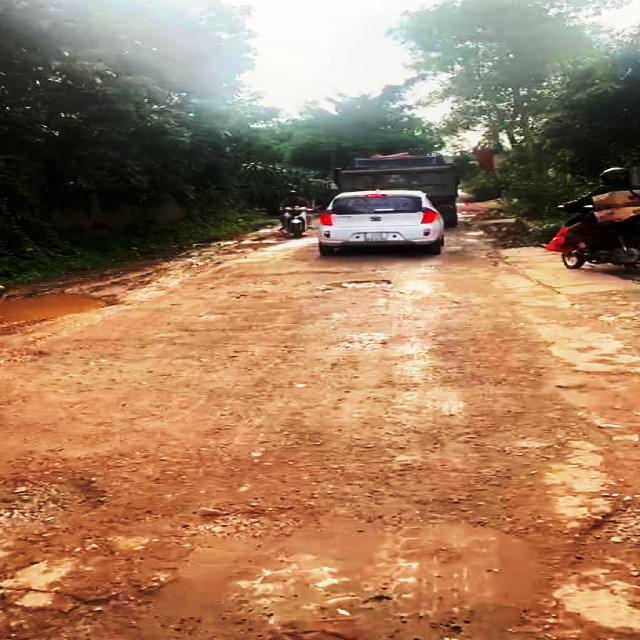pothole: (549, 496, 640, 640), (0, 462, 112, 546), (0, 286, 127, 329), (331, 277, 396, 290)
